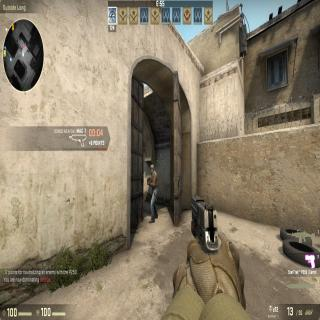T-Body: (147, 164, 158, 223)
T-Head: (150, 164, 154, 173)
